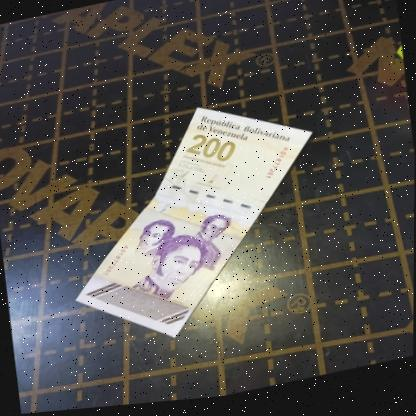two_hundred-front-vef: (54, 86, 334, 361)
